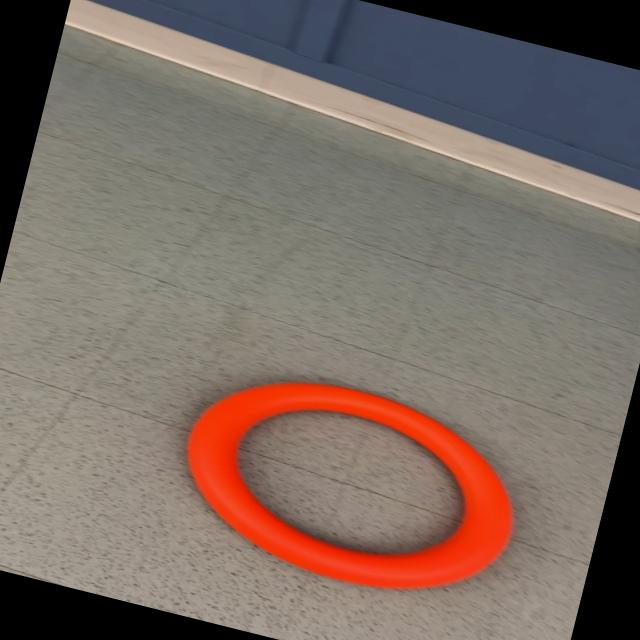note: (161, 351, 538, 618)
